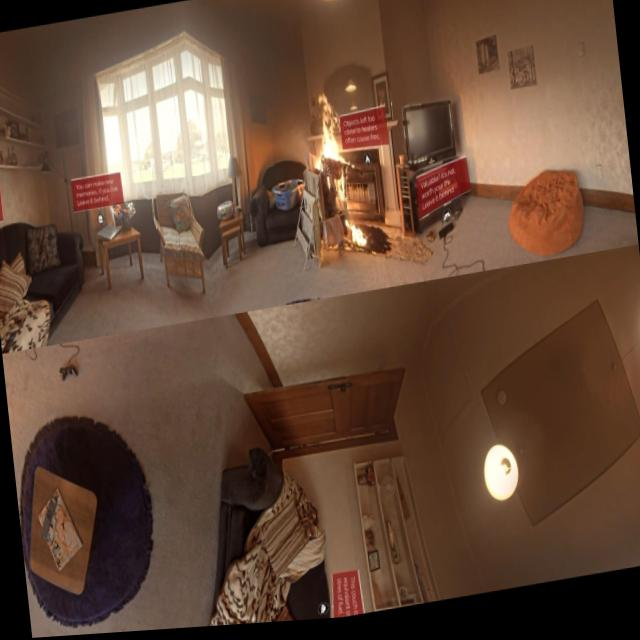fire: (299, 85, 352, 183), (336, 203, 376, 268)
